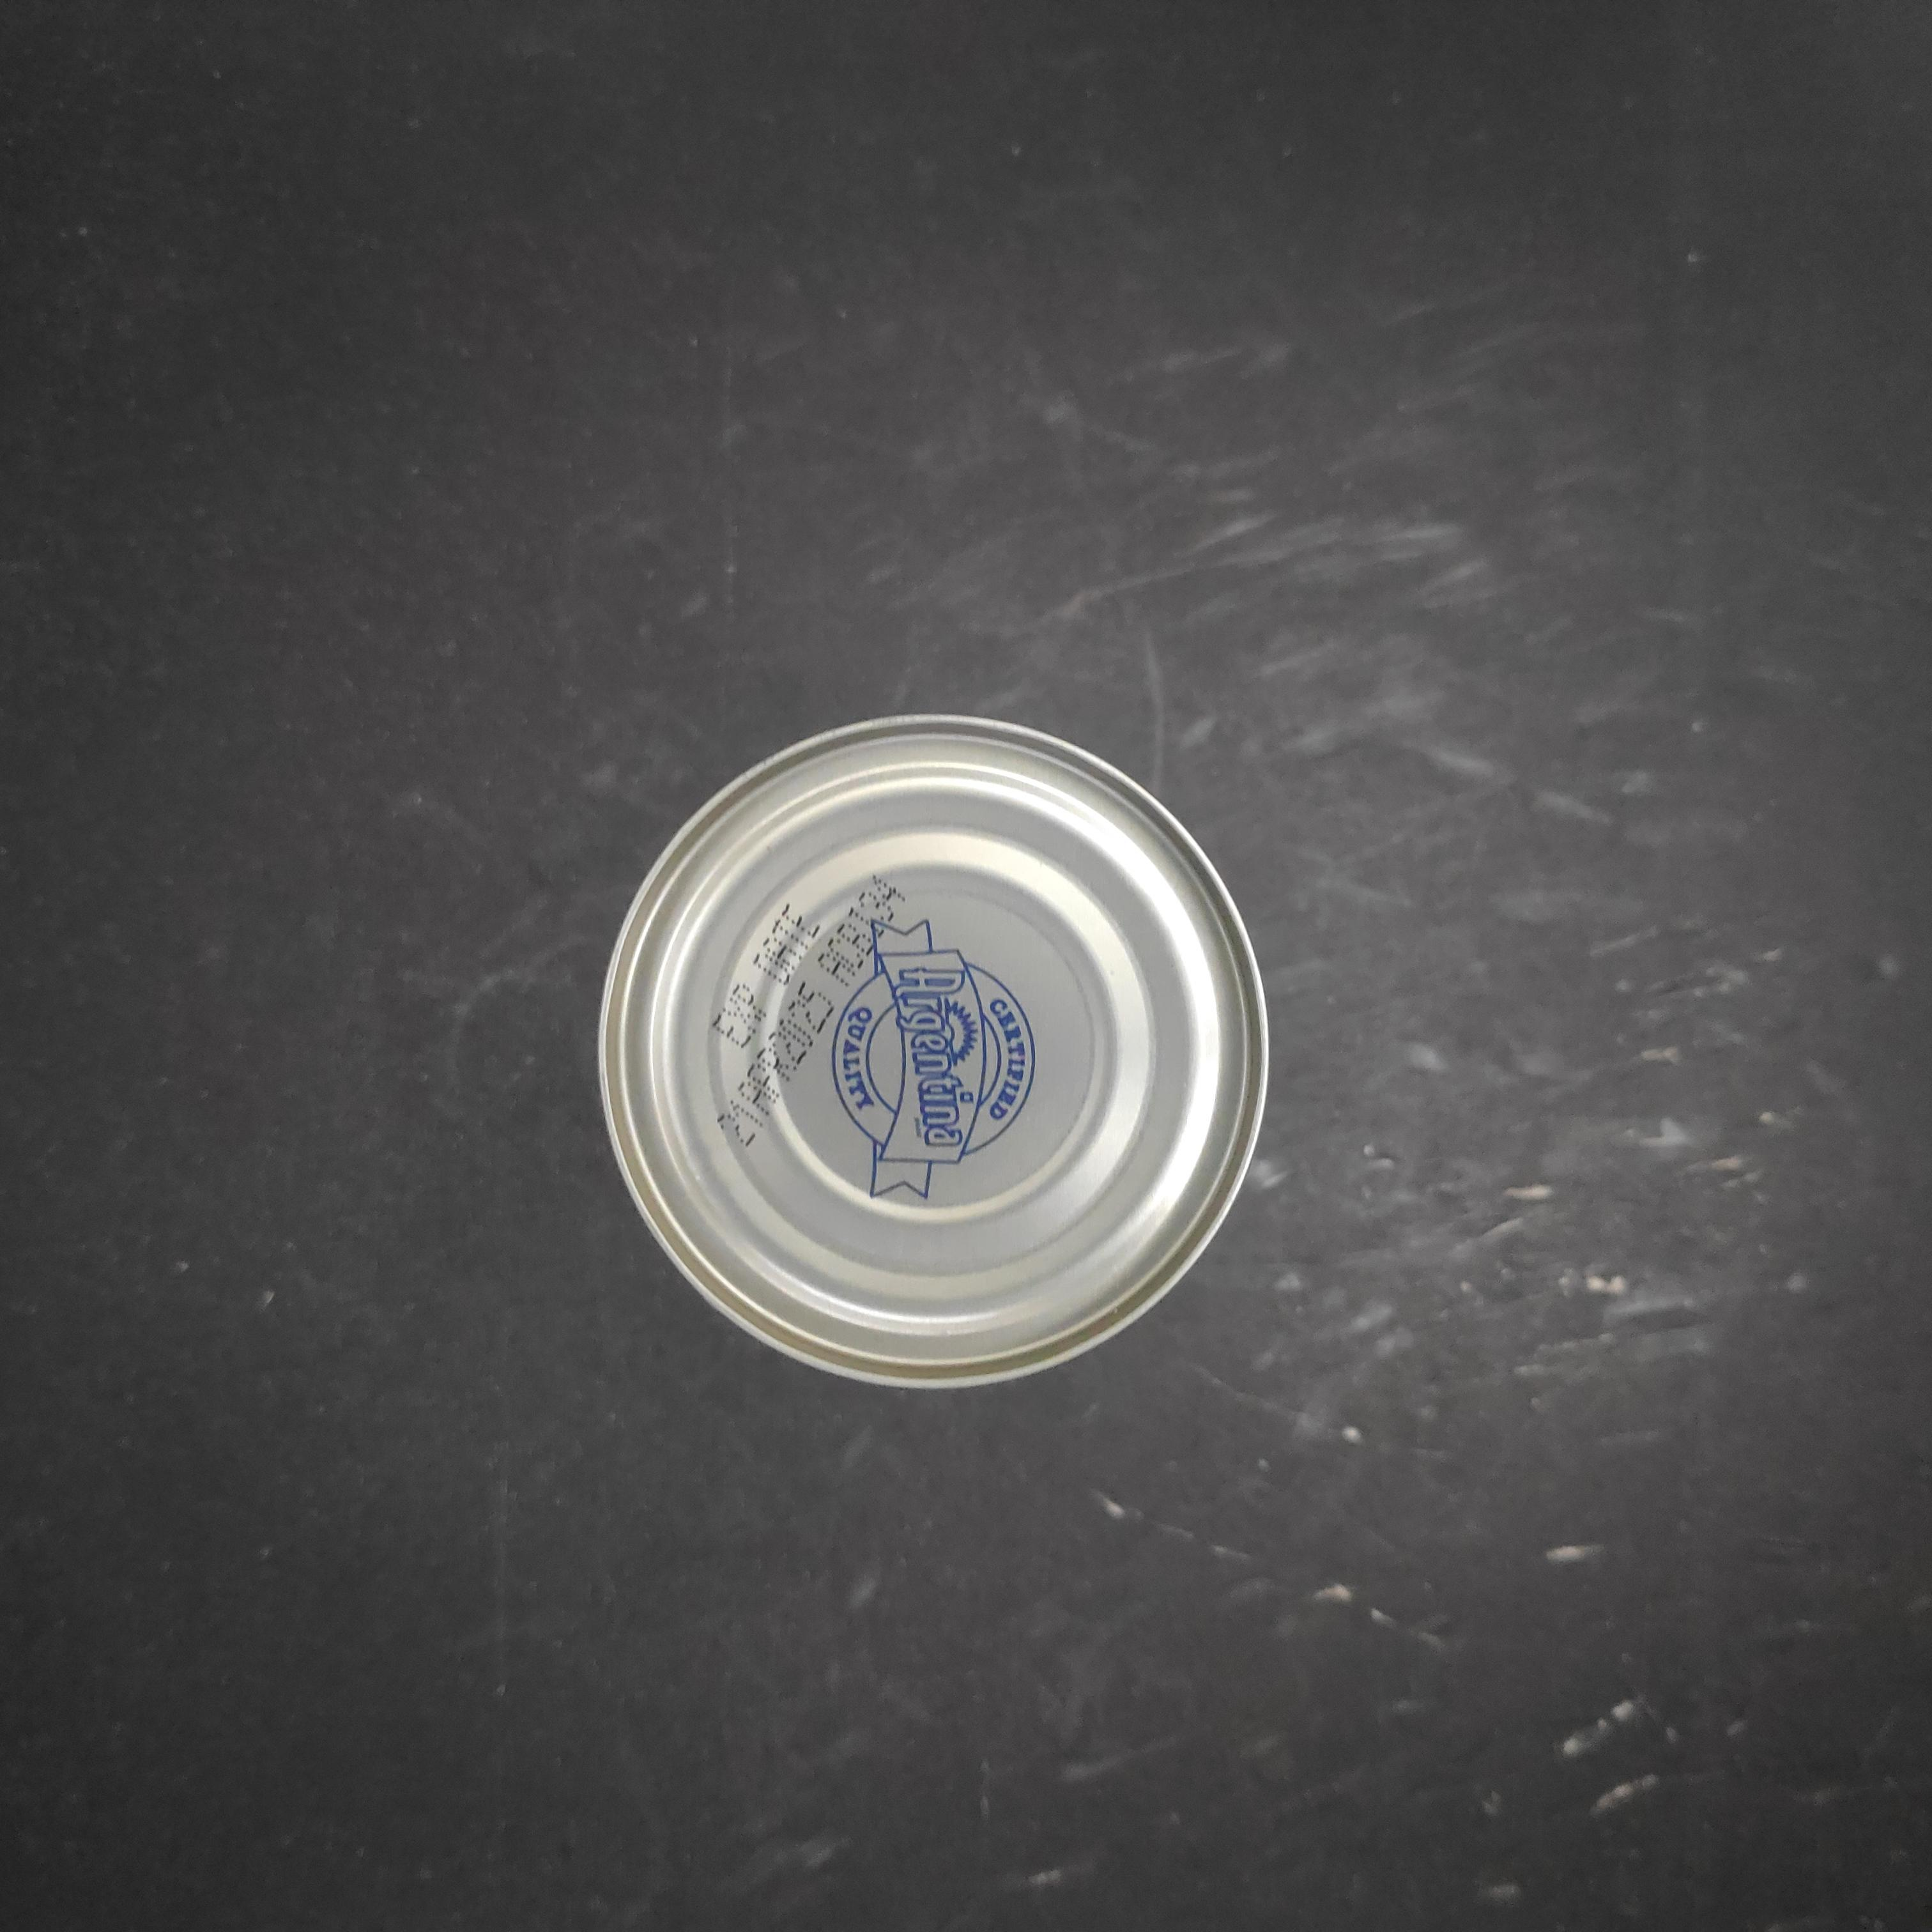No defect: (595, 714, 1271, 1390)
